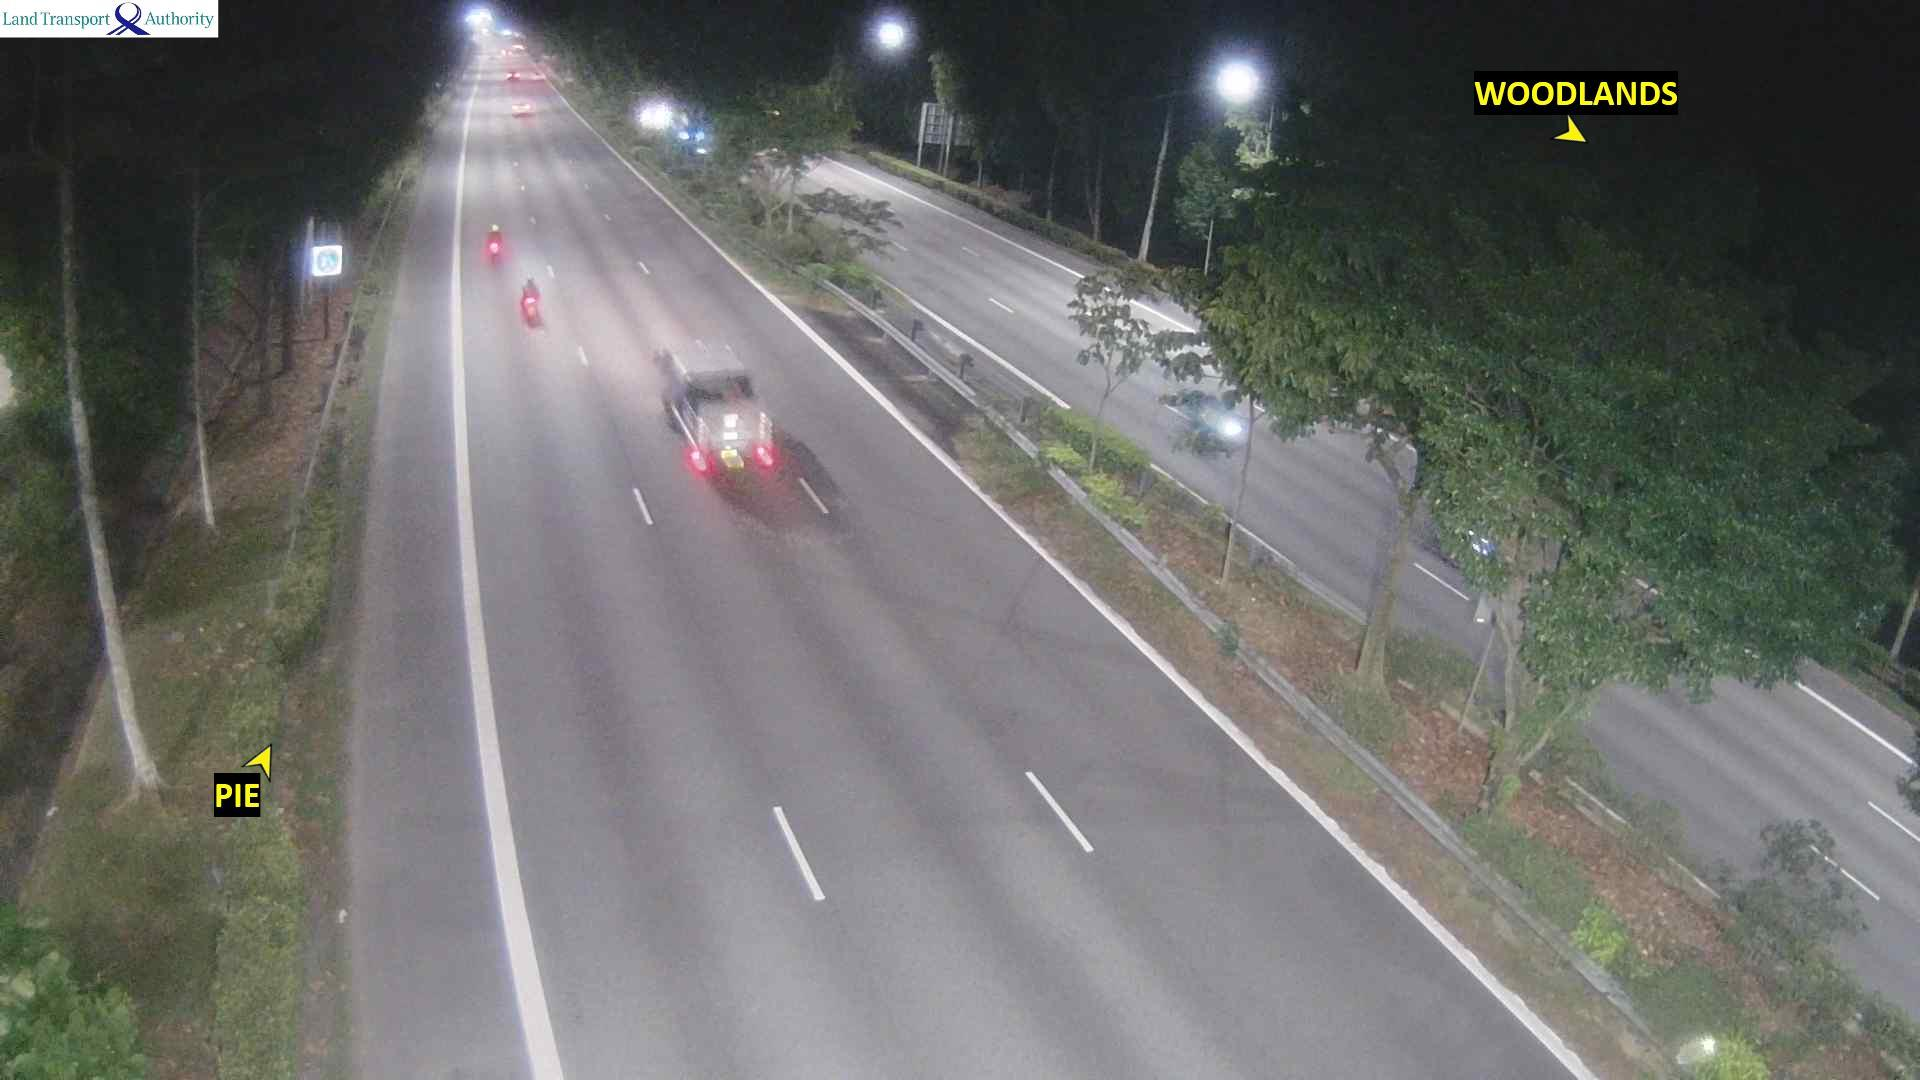cars: (1156, 385, 1246, 456), (673, 117, 712, 157), (636, 95, 674, 135), (510, 98, 531, 116), (530, 71, 547, 84), (505, 69, 520, 80)
motorcycle: (520, 276, 541, 326), (483, 223, 502, 262)
trucks: (655, 338, 781, 498)
